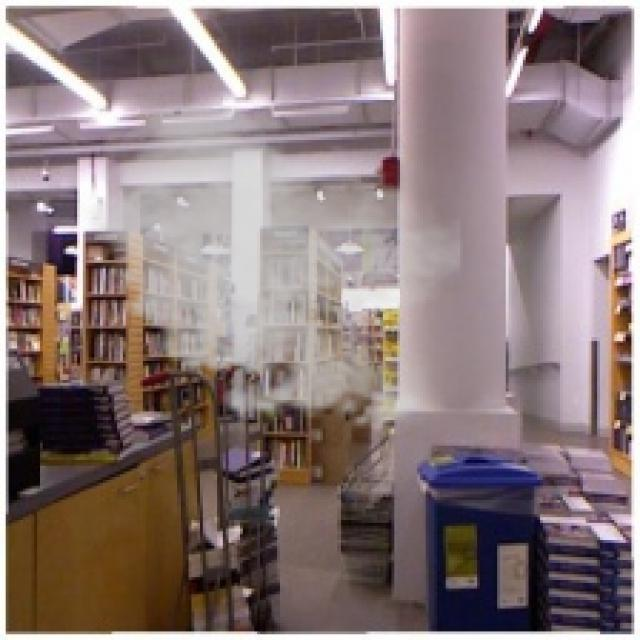Smoke: (74, 94, 466, 440)
